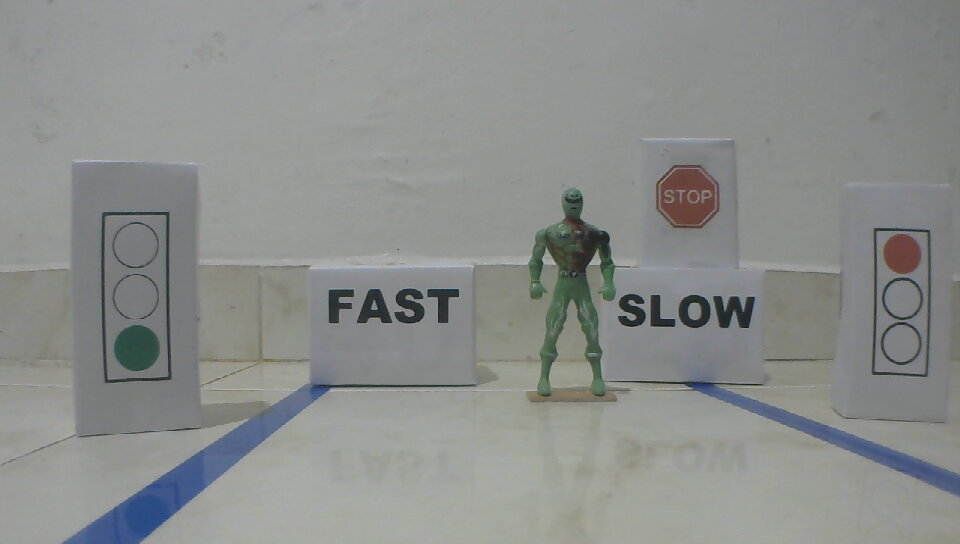Fast: (326, 287, 463, 328)
Green Traffic Light: (98, 208, 175, 385)
Person: (526, 185, 619, 400)
Red Traffic Light: (871, 225, 931, 381)
Slow: (617, 293, 758, 331)
Stop Sign: (653, 162, 721, 230)
